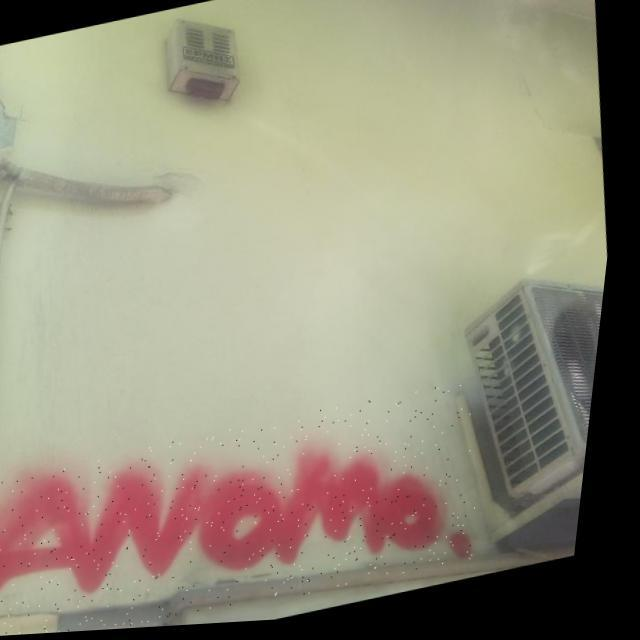-: (0, 383, 506, 639)
